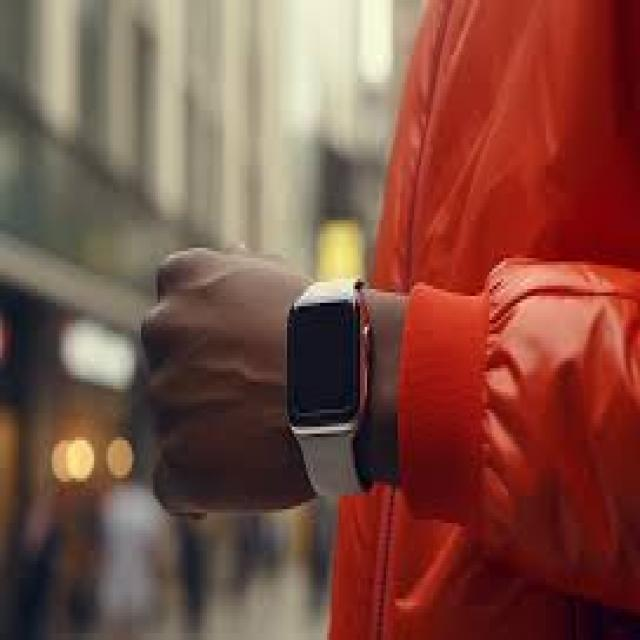objects: (283, 278, 375, 501)
